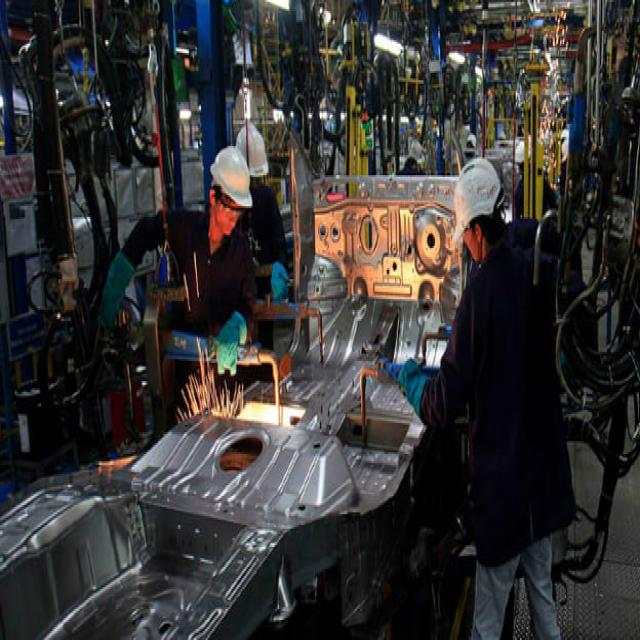Safety-Helmet: (449, 149, 508, 239), (208, 140, 254, 212), (232, 117, 272, 186)
